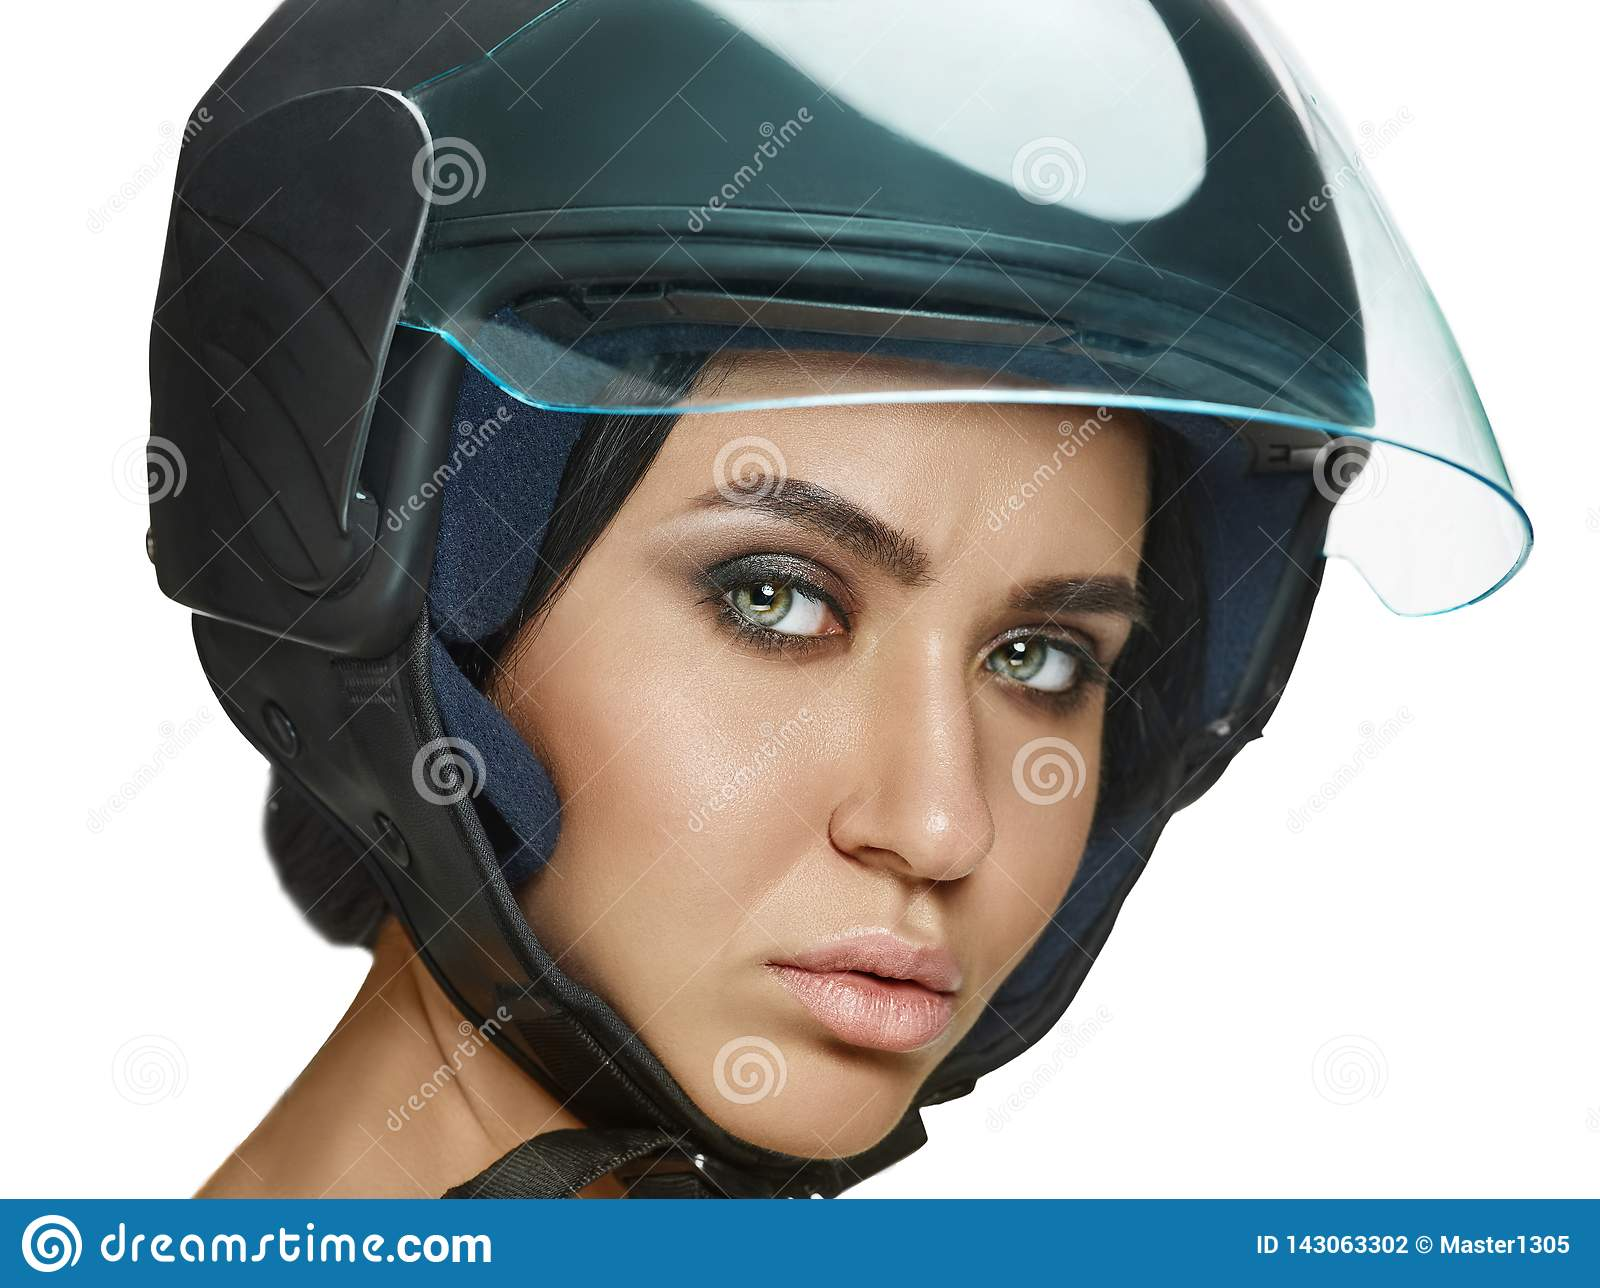helmet: (143, 14, 1470, 1128)
